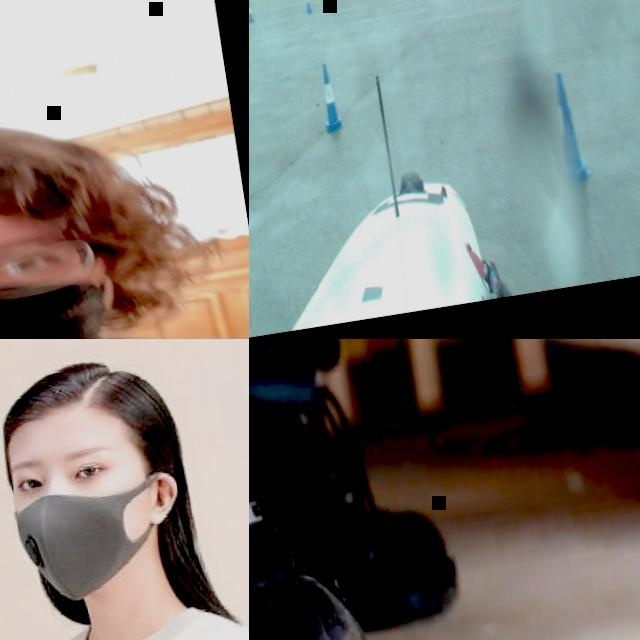Mask: (9, 470, 191, 610)
NO-Hardhat: (0, 100, 138, 276), (0, 340, 177, 454)
Person: (249, 339, 640, 640), (0, 339, 249, 640), (0, 79, 249, 339), (199, 339, 249, 640)
Safety Cone: (544, 69, 595, 191), (315, 60, 346, 133), (303, 0, 313, 14), (249, 0, 255, 23)
